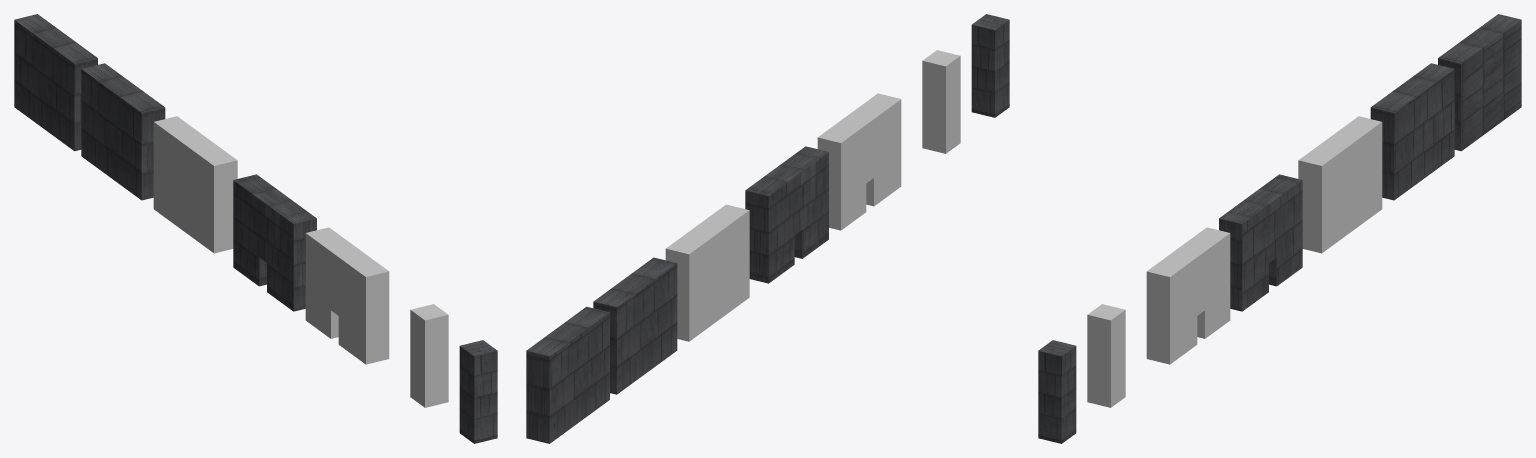
Rendered from Stage_02_models_BaseWall&Ground.fbx.
3 views of the same model, side by side, from view 1: azimuth 30°, elevation 25°; view 2: azimuth 150°, elevation 25°; view 3: azimuth 330°, elevation 25° (orthographic).
Visible parts, largest first — view 1: Cube.004, Cube.001, Cube, Cube.003, Cube.002, Cube.005, Cube.006; view 2: Cube.002, Cube.003, Cube.001, Cube.004, Cube, Cube.005, Cube.006; view 3: Cube.004, Cube.001, Cube, Cube.003, Cube.002, Cube.005, Cube.006.
Part boxes in pixels (x1=…): Cube.004: x1=305, y1=227, x2=389, y2=364; Cube.001: x1=153, y1=116, x2=237, y2=253; Cube: x1=81, y1=63, x2=165, y2=200; Cube.003: x1=233, y1=174, x2=316, y2=311; Cube.002: x1=14, y1=14, x2=97, y2=151; Cube.005: x1=410, y1=304, x2=448, y2=407; Cube.006: x1=459, y1=340, x2=497, y2=443; Cube.002: x1=526, y1=306, x2=609, y2=443; Cube.003: x1=745, y1=146, x2=828, y2=283; Cube.001: x1=665, y1=204, x2=749, y2=341; Cube.004: x1=817, y1=93, x2=901, y2=230; Cube: x1=593, y1=257, x2=677, y2=394; Cube.005: x1=922, y1=50, x2=960, y2=153; Cube.006: x1=971, y1=14, x2=1009, y2=117; Cube.004: x1=1146, y1=227, x2=1230, y2=364; Cube.001: x1=1298, y1=116, x2=1382, y2=253; Cube: x1=1370, y1=63, x2=1454, y2=200; Cube.003: x1=1219, y1=174, x2=1302, y2=311; Cube.002: x1=1438, y1=14, x2=1521, y2=151; Cube.005: x1=1087, y1=304, x2=1125, y2=407; Cube.006: x1=1038, y1=340, x2=1076, y2=443.
Size of the model in its own units: 112 by 400 by 3813.
